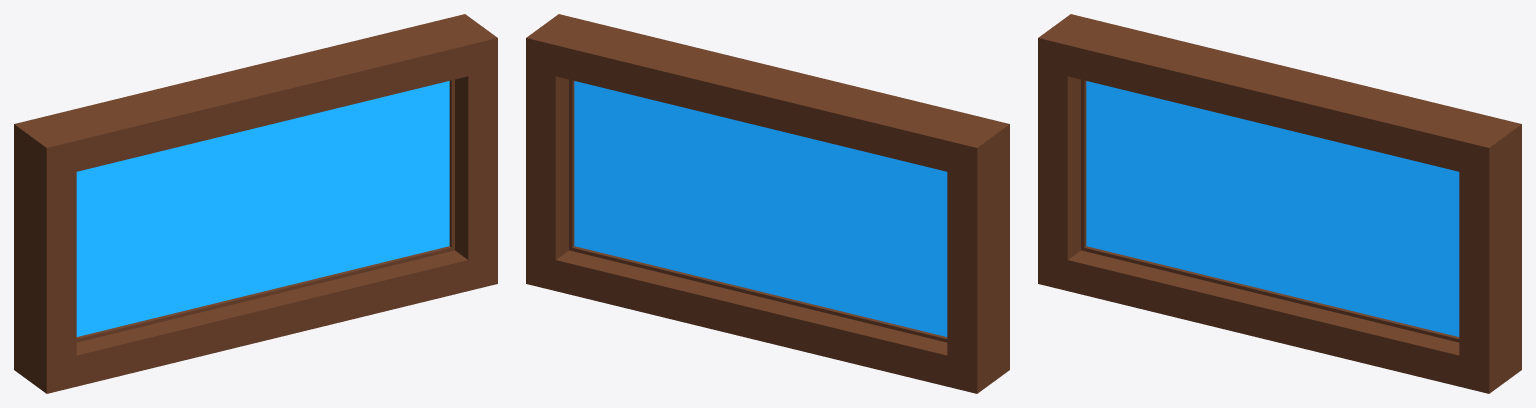
Rendered from janela_larga_inteira_madeira.glb.
3 renders of one model, left to right at view 1: azimuth 30°, elevation 25°; view 2: azimuth 150°, elevation 25°; view 3: azimuth 330°, elevation 25°, orthographic.
Parts seen in each view (by area): view 1: janela_larga_inteira_madeira; view 2: janela_larga_inteira_madeira; view 3: janela_larga_inteira_madeira.
Boxes of the visible parts, x1,y1,x2,y2 form: janela_larga_inteira_madeira: [14, 14, 497, 393]; janela_larga_inteira_madeira: [526, 14, 1009, 393]; janela_larga_inteira_madeira: [1038, 14, 1521, 393].
Size of the model in its own units: 1.67 by 0.87 by 0.21.
